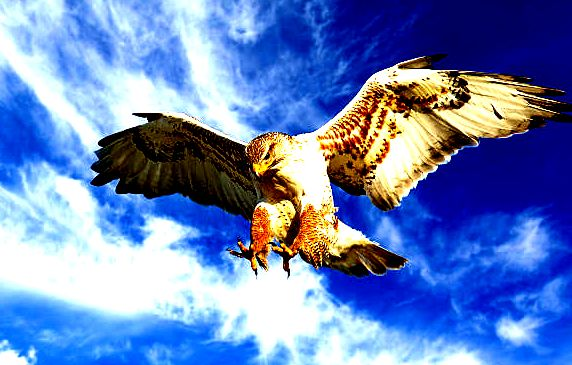Bird: (88, 45, 568, 286)
